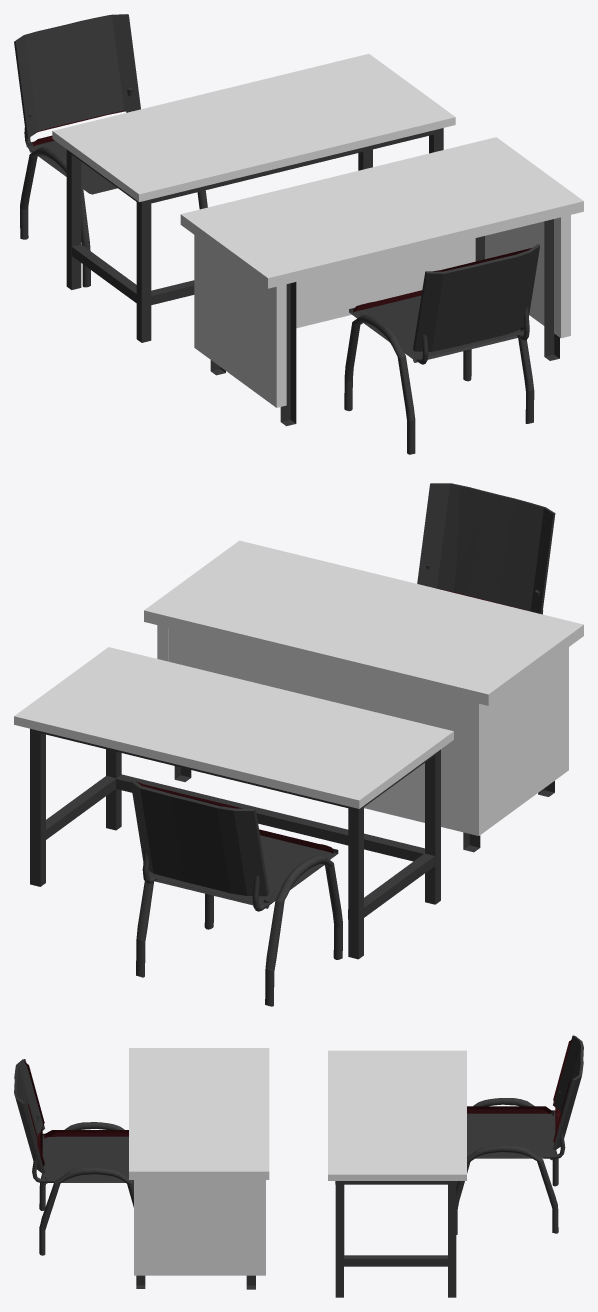
File: mesasySilas.fbx
The picture shows the model from 3 angles, top to bottom: view 1: azimuth 30°, elevation 25°; view 2: azimuth 150°, elevation 25°; view 3: azimuth 270°, elevation 25°; orthographic projection. The views are drawn at different scales.
Visible parts, largest first — view 1: Cube.012, Cube.011, Cylinder, Cylinder.002; view 2: Cube.012, Cube.011, Cylinder.002, Cylinder; view 3: Cube.012, Cube.011, Cylinder.002, Cylinder.
Boxes of the visible parts, x1,y1,x2,y2 form: Cube.012: [180, 137, 583, 426]; Cube.011: [52, 54, 455, 342]; Cylinder: [344, 244, 539, 454]; Cylinder.002: [14, 14, 207, 287]; Cube.012: [144, 540, 583, 852]; Cube.011: [14, 647, 453, 959]; Cylinder.002: [130, 779, 342, 1006]; Cylinder: [417, 483, 555, 614]; Cube.012: [129, 1048, 269, 1289]; Cube.011: [328, 1050, 466, 1297]; Cylinder.002: [456, 1035, 583, 1234]; Cylinder: [14, 1059, 133, 1255].
Bounding box in the file's own units: 423 × 246 × 812.
